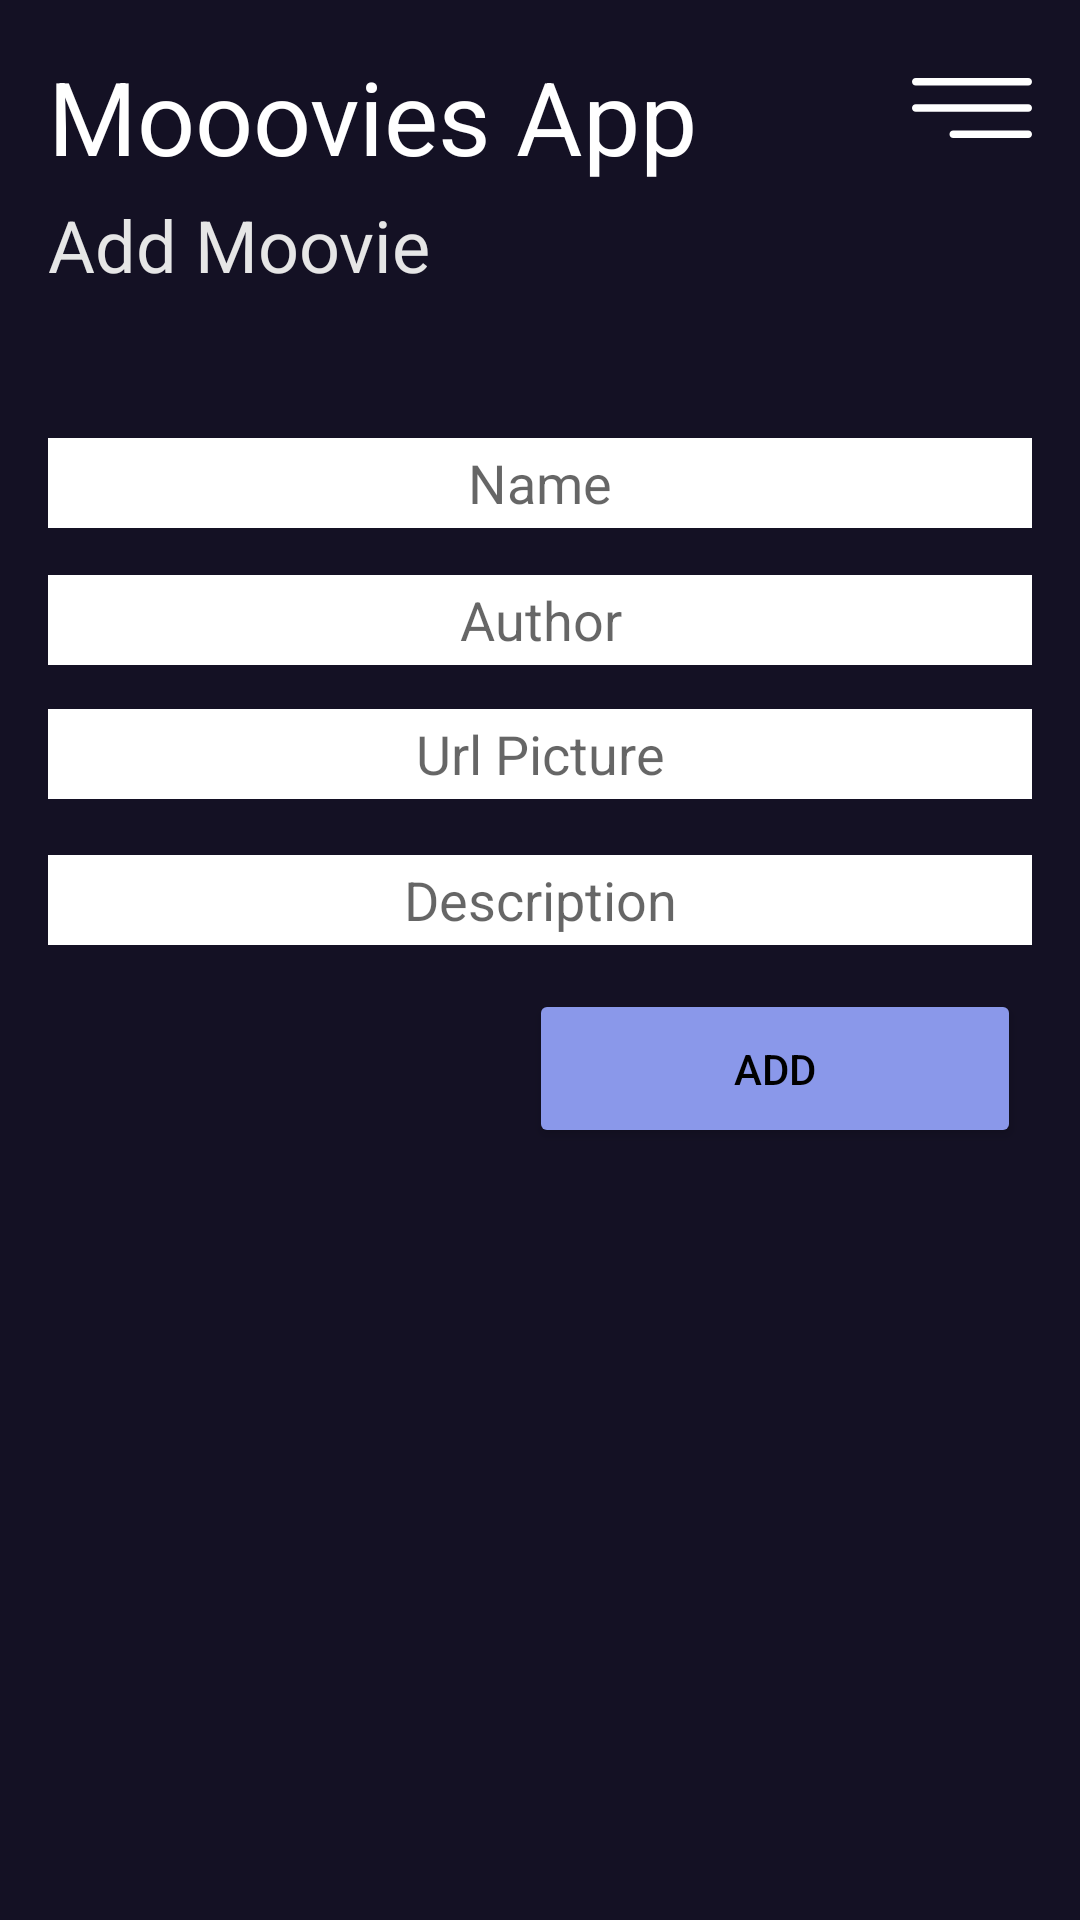

Screen size 1080px×1920px. Icon name, then its box in pixels as detection(x1, y1, x2, y2):
menu: detection(912, 78, 1032, 138)
